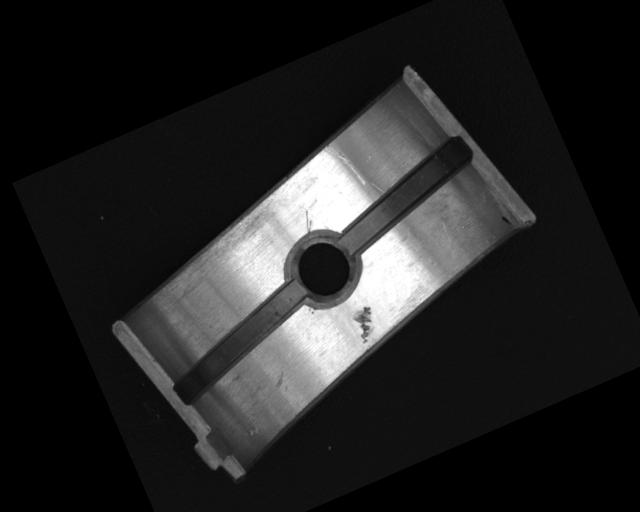blot: (500, 212, 514, 229)
bruise: (348, 303, 383, 345), (271, 370, 291, 394), (245, 425, 260, 438)
gap: (151, 275, 326, 407), (320, 133, 490, 260)
hole: (277, 222, 369, 314)
nick: (323, 136, 368, 195), (299, 209, 316, 233)
scratch: (127, 185, 295, 315)
